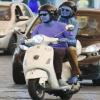motorcycles: (22, 38, 74, 100)
